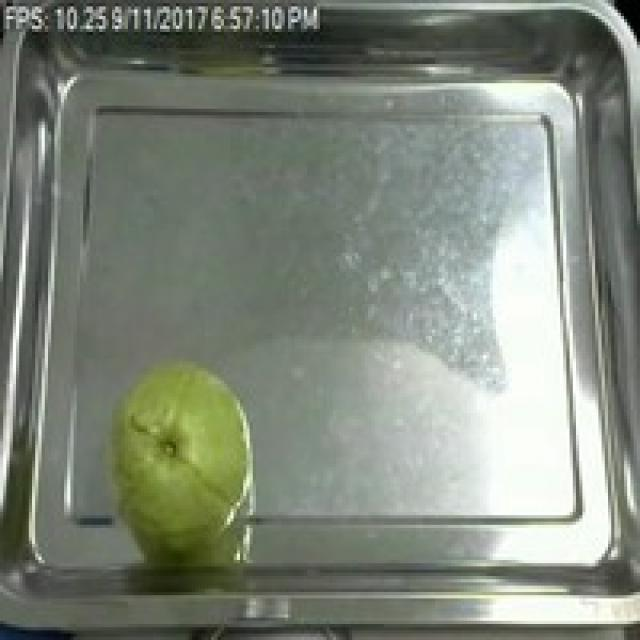Fruit: (90, 346, 268, 560)
